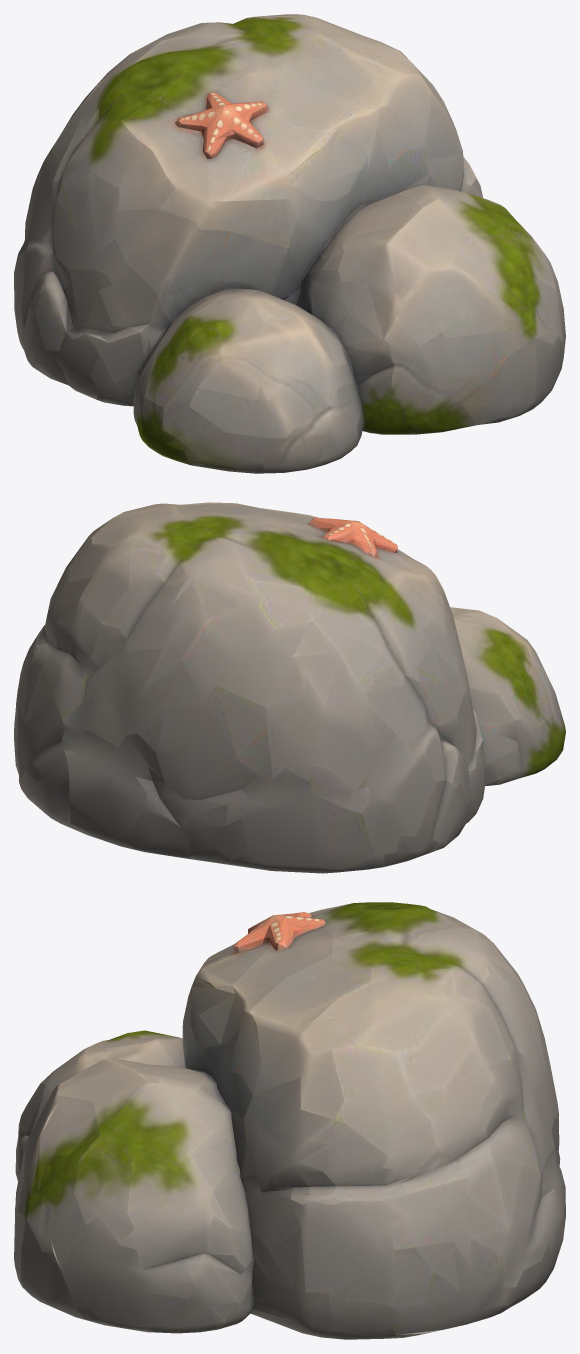
The model's file is rocks.glb.
3 renders of one model, top to bottom at view 1: azimuth 30°, elevation 25°; view 2: azimuth 150°, elevation 25°; view 3: azimuth 270°, elevation 25°, orthographic. The views are drawn at different scales.
Bounding box in the file's own units: 1.85 × 1.11 × 1.9.
Materials: 1 (1 with a texture image).
